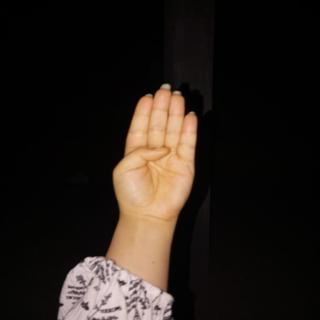KAAF: (103, 78, 206, 226)
